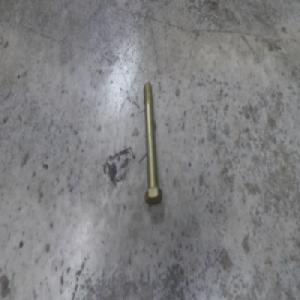Bolt: (142, 80, 163, 203)
